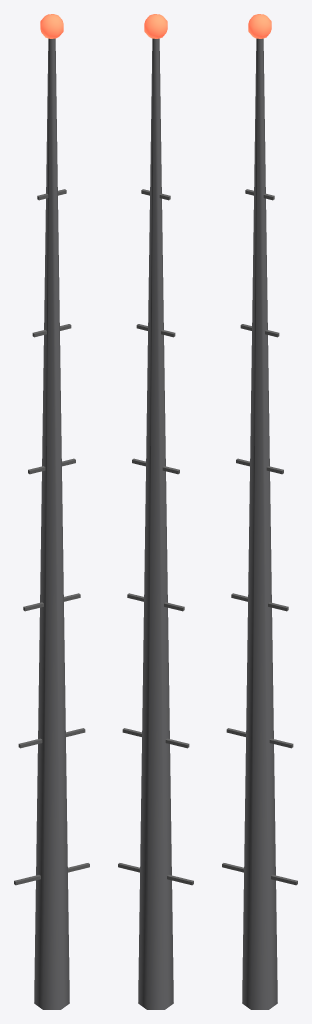
Rendered from antenna.glb.
3 views of the same model, side by side, from view 1: azimuth 30°, elevation 25°; view 2: azimuth 150°, elevation 25°; view 3: azimuth 330°, elevation 25° (orthographic).
Parts seen in each view (by area): view 1: antenna_body, antenna_glow; view 2: antenna_body, antenna_glow; view 3: antenna_body, antenna_glow.
Part boxes in pixels (box(x1,y1,x2,y2)): antenna_body: box(14, 38, 89, 1009); antenna_glow: box(40, 14, 63, 38); antenna_body: box(118, 38, 193, 1009); antenna_glow: box(144, 14, 167, 38); antenna_body: box(222, 38, 297, 1009); antenna_glow: box(248, 14, 271, 38).
Bounding box in the file's own units: 1.2 × 15.28 × 0.5.
